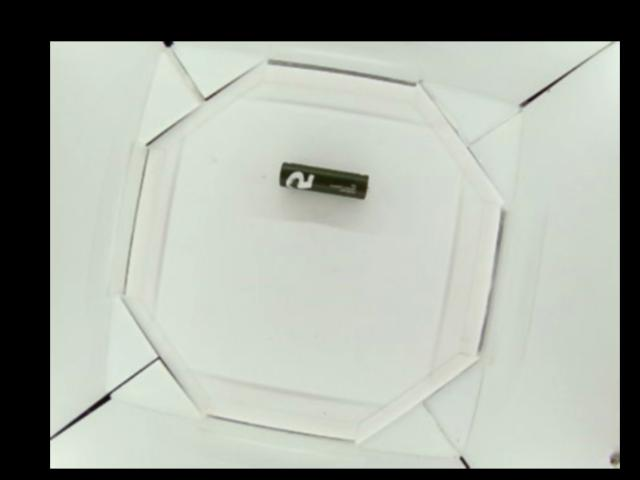Battery: (278, 160, 370, 198)
